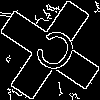C: (25, 25, 81, 84)
